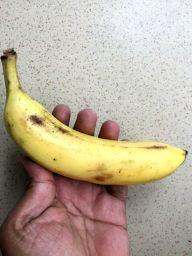Banana Ripe: (2, 48, 192, 190)
